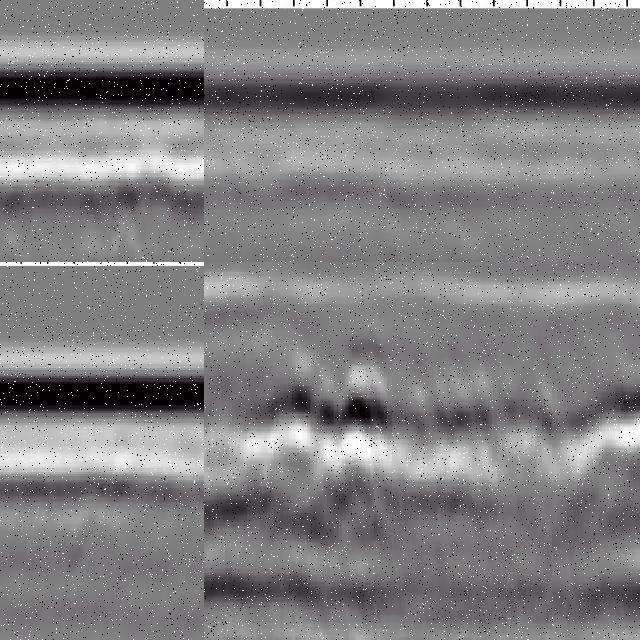loose: (248, 353, 431, 502), (609, 362, 640, 631)
